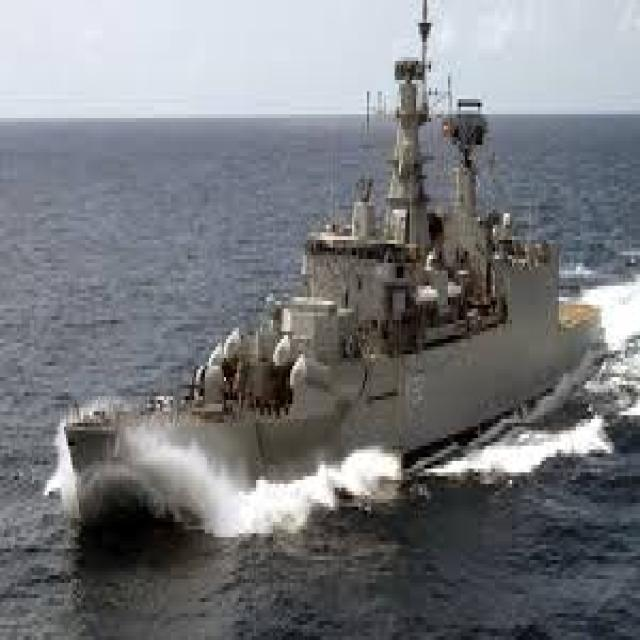Frigate-Godavari-Class-IND: (62, 0, 608, 531)
